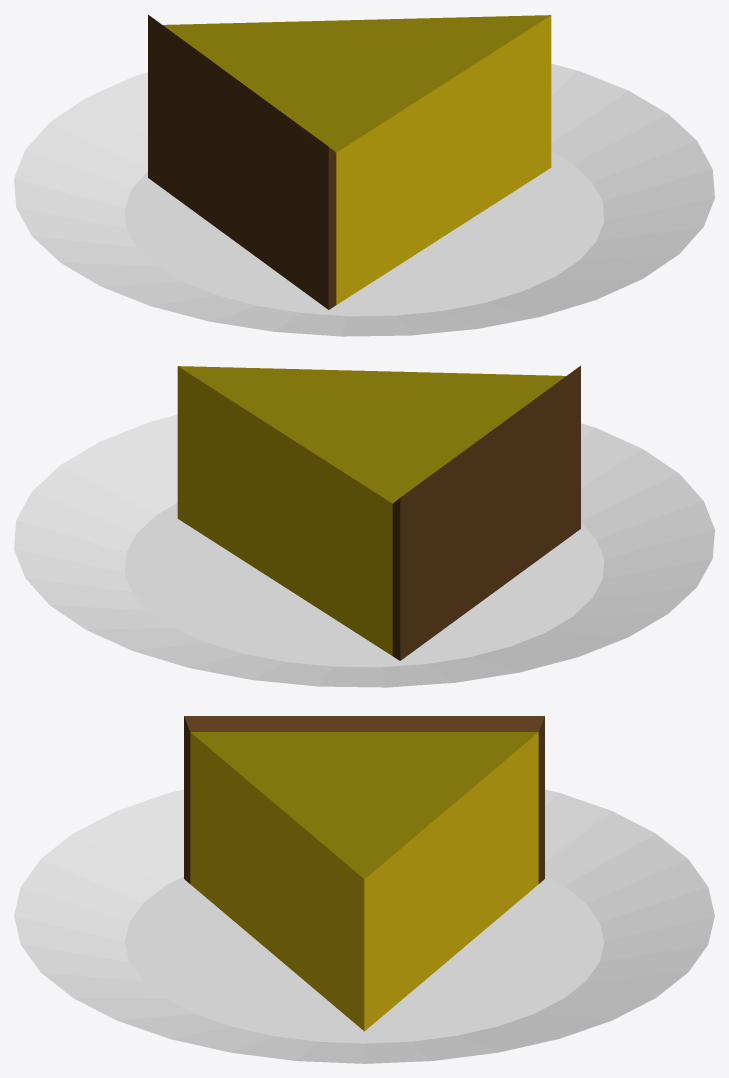
The model's file is partdetruc.glb.
The picture shows the model from 3 angles, top to bottom: view 1: azimuth 30°, elevation 25°; view 2: azimuth 150°, elevation 25°; view 3: azimuth 270°, elevation 25°; orthographic projection.
Visible parts, largest first — view 1: Part; view 2: Part; view 3: Part.
Part boxes in pixels (x1,y1,x2,y2): Part: (14, 14, 714, 336); Part: (14, 365, 714, 687); Part: (14, 716, 714, 1063).
Size of the model in its own units: 2 by 0.5188 by 2.
